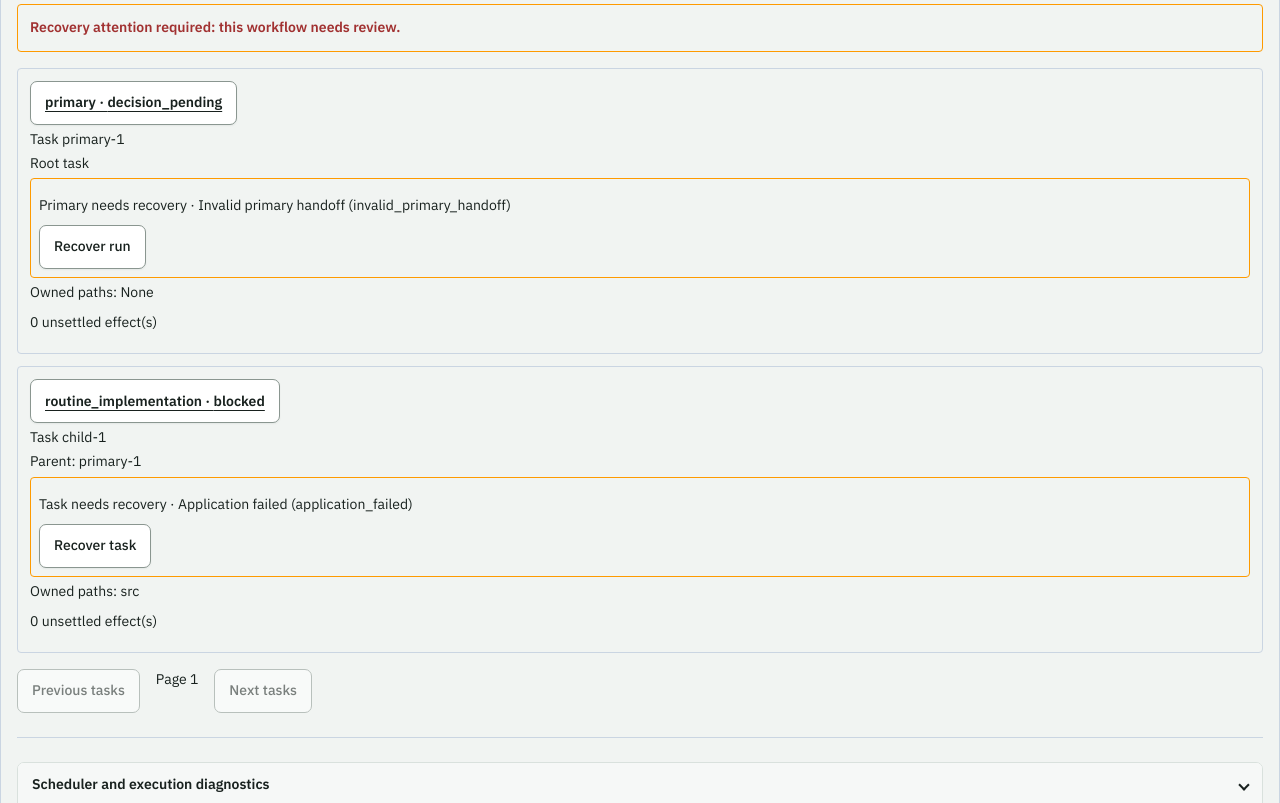
shows attention for primary and child task and navigates to the affected attempt
expect the text "Recovery attention required: this workflow needs review." is shown: met, box [17,4,1263,52]
expect the text "Primary needs recovery" is shown: met, box [39,196,187,214]
Click the button "Recover run": (92, 247) [39,225,146,269]
(page scrolled)
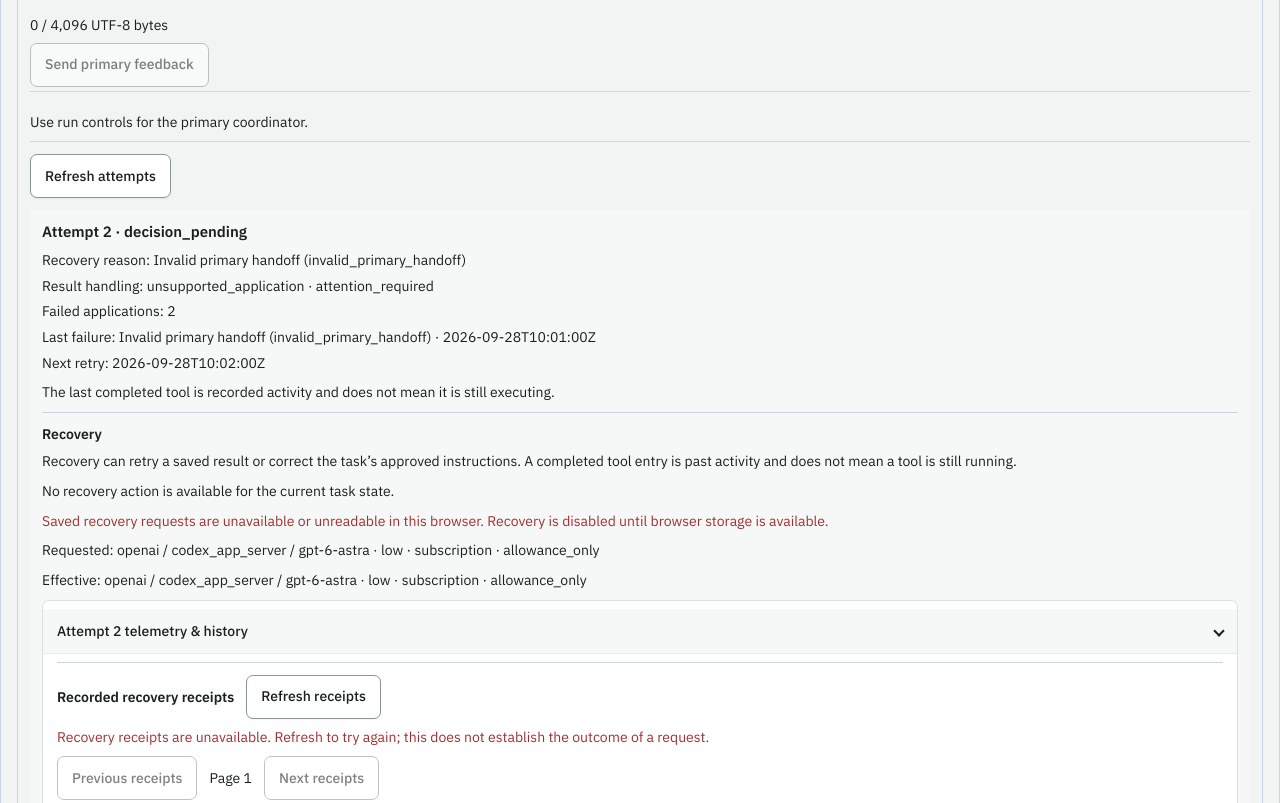
expect the text "Next retry: 2026-09-28T10:02:00Z" is shown: met, box [42,354,265,372]
expect the text "last completed tool" is shown: met, box [42,383,555,401]
